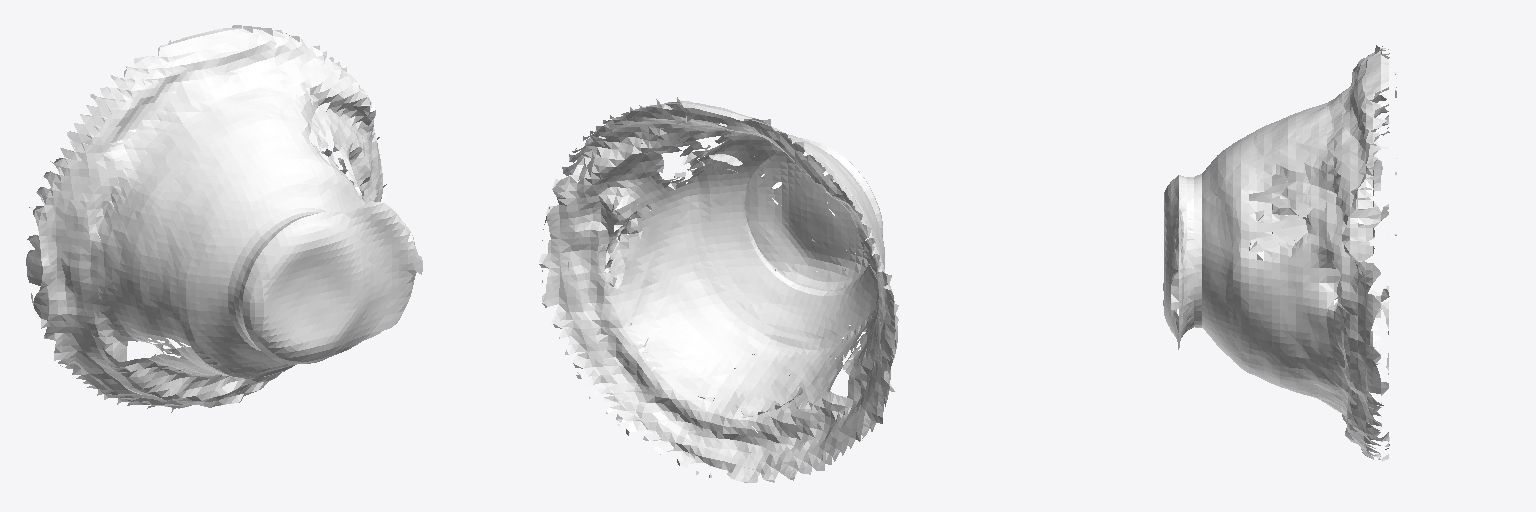
File: bowl.obj
3 views of the same model, side by side, from view 1: azimuth 30°, elevation 25°; view 2: azimuth 150°, elevation 25°; view 3: azimuth 270°, elevation 25° (orthographic).
Size of the model in its own units: 0.1459 by 0.1437 by 0.0826.